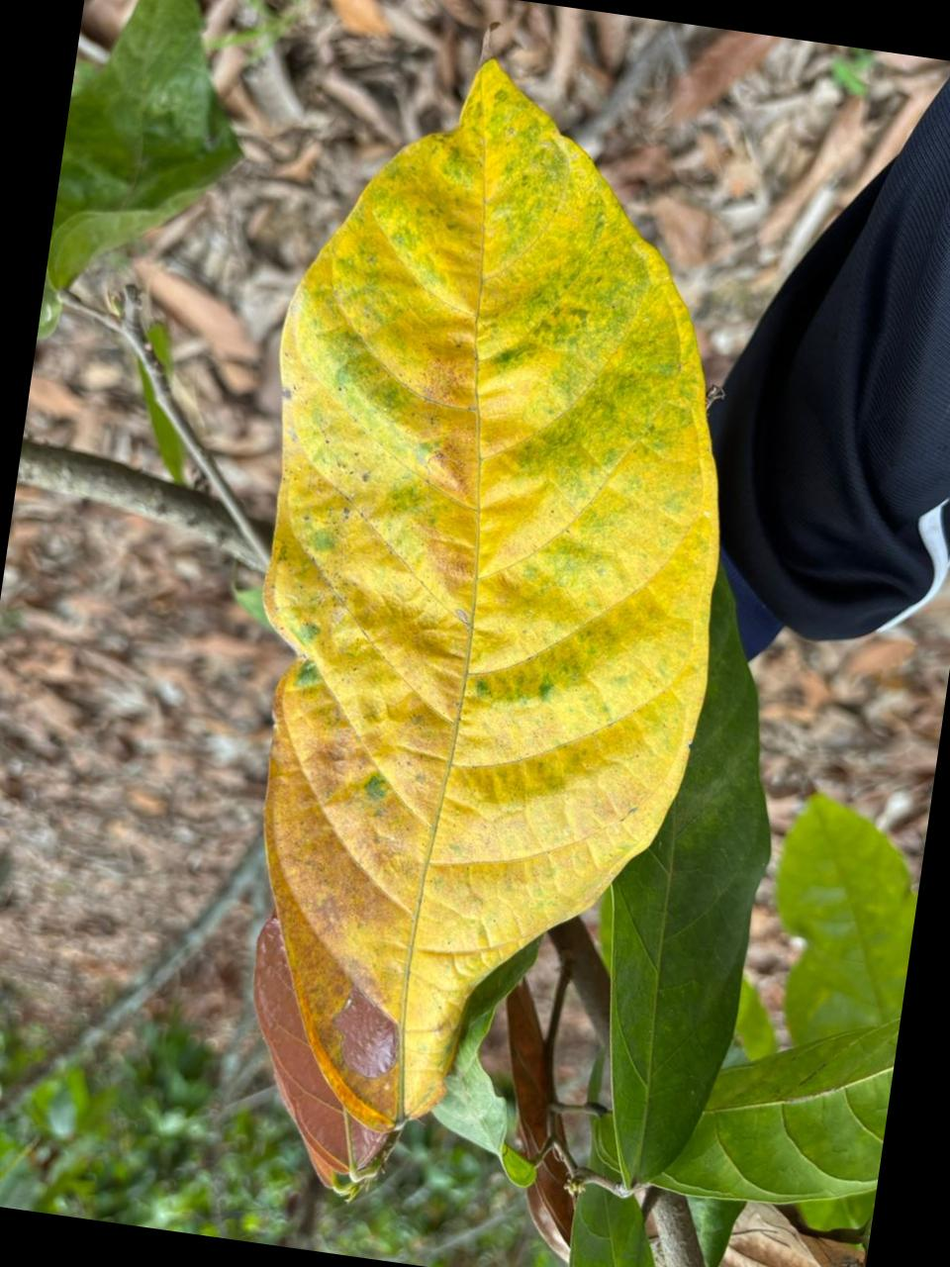Fosforo: (264, 62, 717, 1131)
